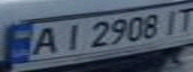0: (127, 14, 148, 43)
2: (87, 17, 112, 48)
8: (139, 10, 166, 39)
9: (106, 16, 130, 47)
A: (21, 24, 63, 57)
I: (54, 20, 87, 52), (157, 7, 187, 35)
T: (172, 3, 193, 33)
